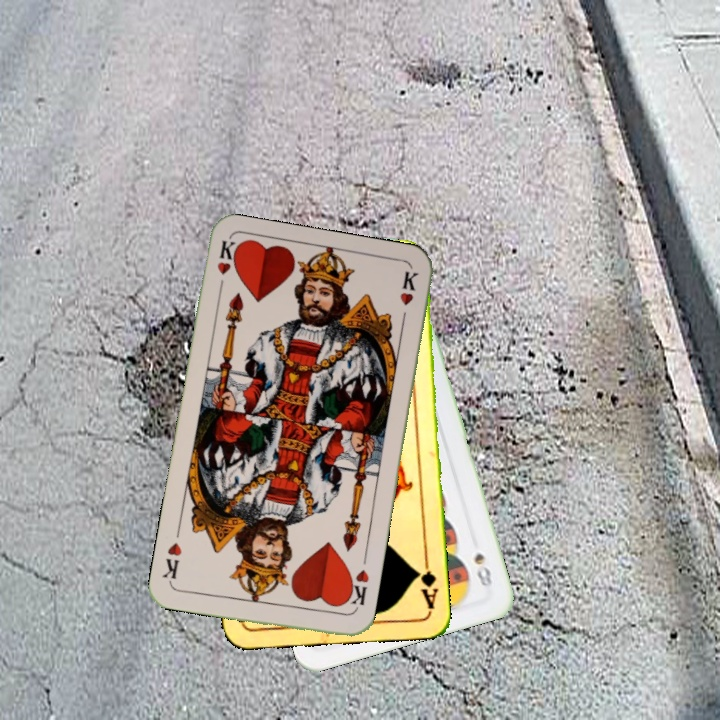GA: (412, 553, 441, 611)
HK: (213, 237, 241, 297), (341, 566, 372, 615)
S8: (470, 549, 495, 590)
